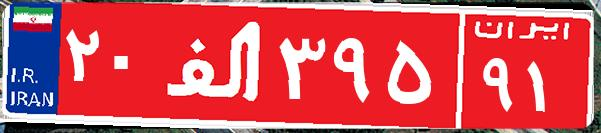0: (110, 28, 158, 105)
1: (525, 38, 570, 115)
2: (57, 26, 110, 107)
3: (273, 28, 330, 110)
5: (385, 28, 445, 110)
9: (330, 28, 385, 110), (475, 38, 525, 113)
الف: (158, 15, 273, 115)
